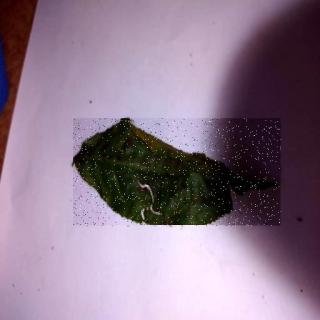Bird Eye Spot: (75, 120, 283, 228)
